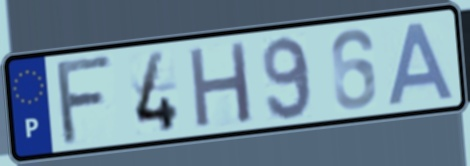4: (132, 50, 181, 136)
6: (328, 26, 379, 112)
9: (260, 33, 315, 122)
A: (386, 19, 460, 109)
F: (55, 52, 118, 149)
H: (185, 38, 255, 132)
